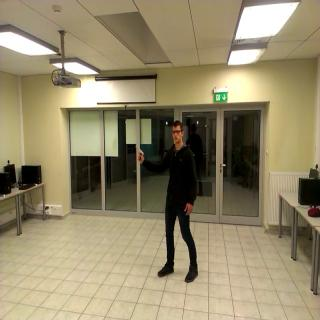gun: (133, 140, 145, 162)
